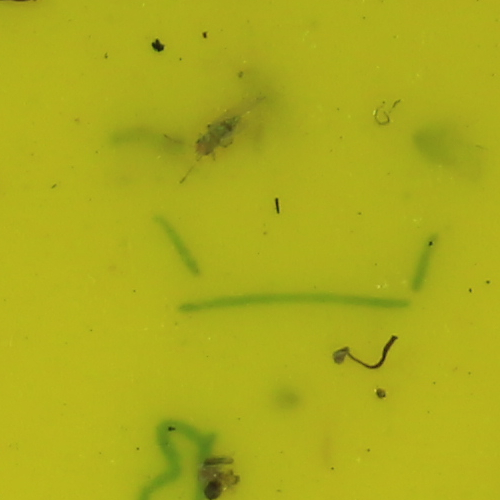Glycaspis: (193, 112, 244, 157)
